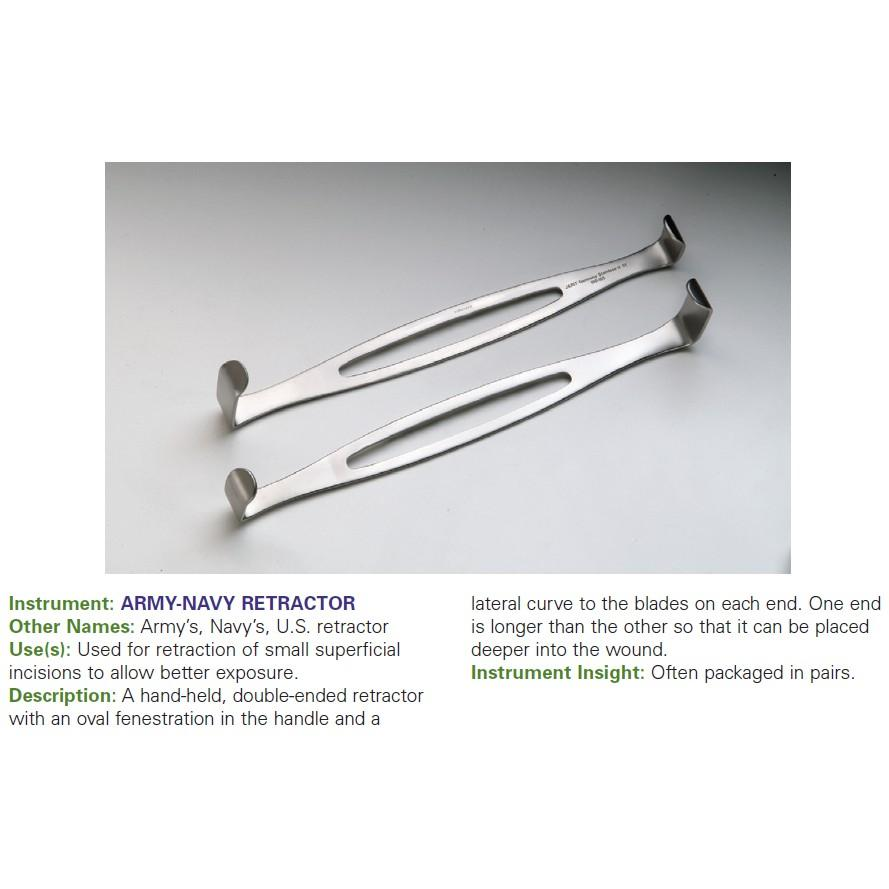Army Navy Retractor: (224, 276, 719, 527), (199, 190, 684, 431)
